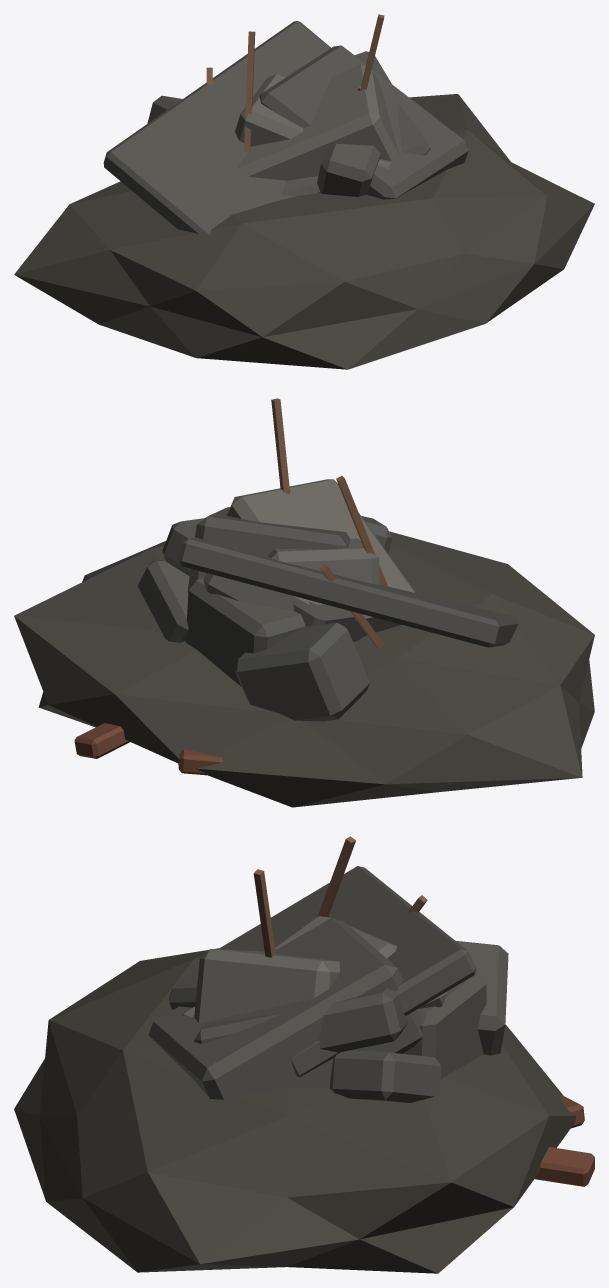
The model's file is litter_rubble.glb.
3 views of the same model, one above another, from view 1: azimuth 30°, elevation 25°; view 2: azimuth 150°, elevation 25°; view 3: azimuth 270°, elevation 25° (orthographic). The views are drawn at different scales.
Visible parts, largest first — view 1: litter_rubble; view 2: litter_rubble; view 3: litter_rubble.
Part boxes in pixels (<box>): litter_rubble: <box>14,14,594,369</box>; litter_rubble: <box>14,398,594,807</box>; litter_rubble: <box>14,836,594,1273</box>.
Bounding box in the file's own units: 2.13 × 1.01 × 1.67.
